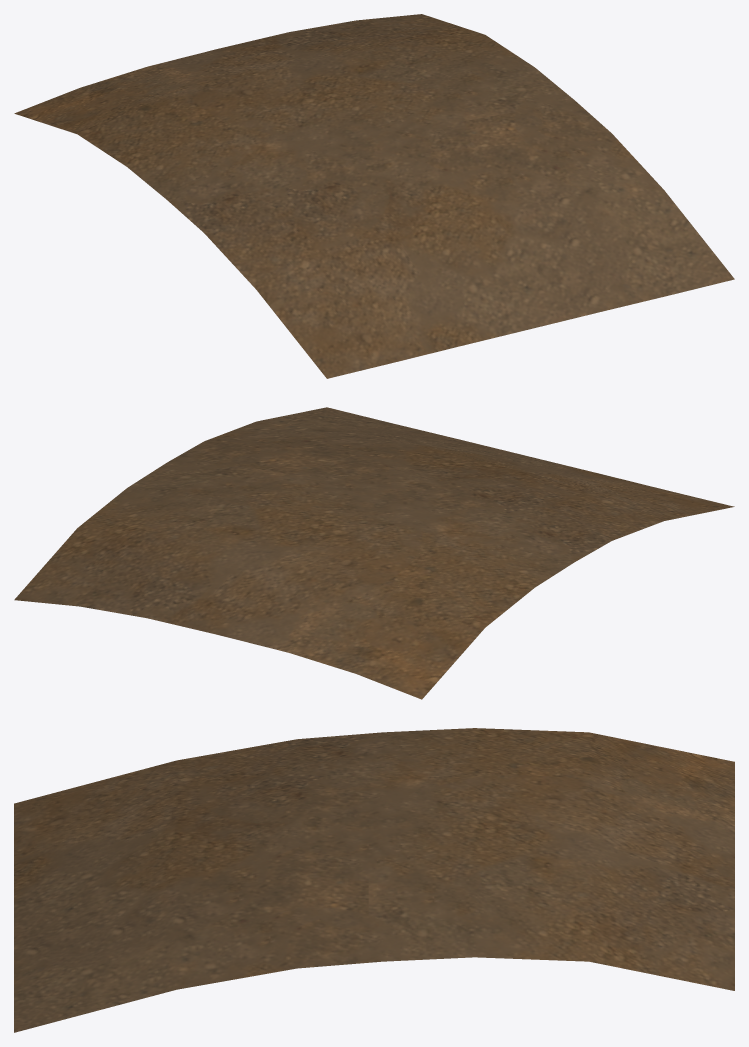
Rendered from Pr3_Title_Stage.fbx.
3 renders of one model, top to bottom at view 1: azimuth 30°, elevation 25°; view 2: azimuth 150°, elevation 25°; view 3: azimuth 270°, elevation 25°, orthographic. The views are drawn at different scales.
Visible parts, largest first — view 1: Zimen; view 2: Zimen; view 3: Zimen.
Boxes of the visible parts, box(x1,y1,x2,y2) form: Zimen: box(14, 14, 734, 378); Zimen: box(14, 407, 734, 699); Zimen: box(14, 728, 734, 1032).
Bounding box in the file's own units: 12.89 × 2.44 × 17.12.
